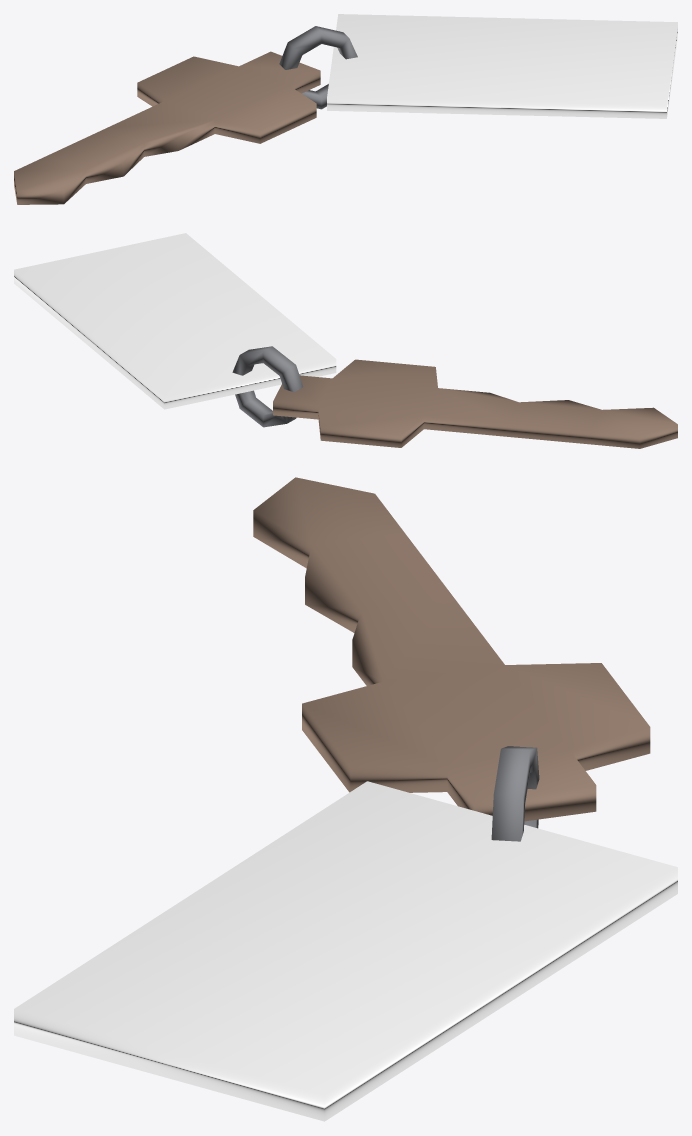
The model's file is room key.fbx.
3 renders of one model, top to bottom at view 1: azimuth 30°, elevation 25°; view 2: azimuth 150°, elevation 25°; view 3: azimuth 270°, elevation 25°, orthographic. The views are drawn at different scales.
Visible parts, largest first — view 1: room key; view 2: room key; view 3: room key.
Part boxes in pixels (<box>): room key: <box>14,14,677,204</box>; room key: <box>14,233,677,448</box>; room key: <box>14,477,677,1121</box>.
Bounding box in the file's own units: 0.3099 × 0.0343 × 0.1408.
